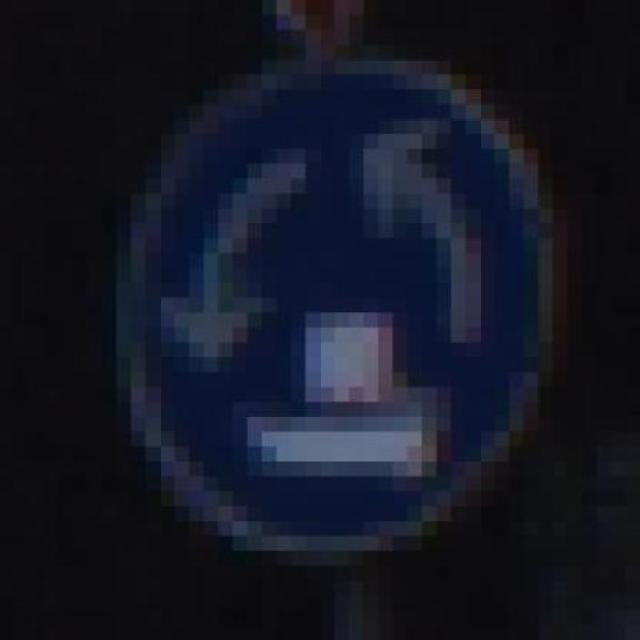Round-About: (116, 45, 582, 566)
